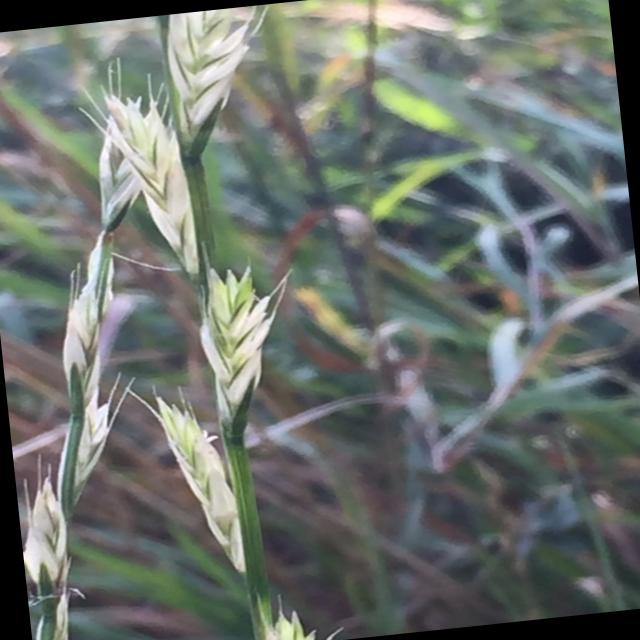Lolium: (0, 3, 349, 640)
